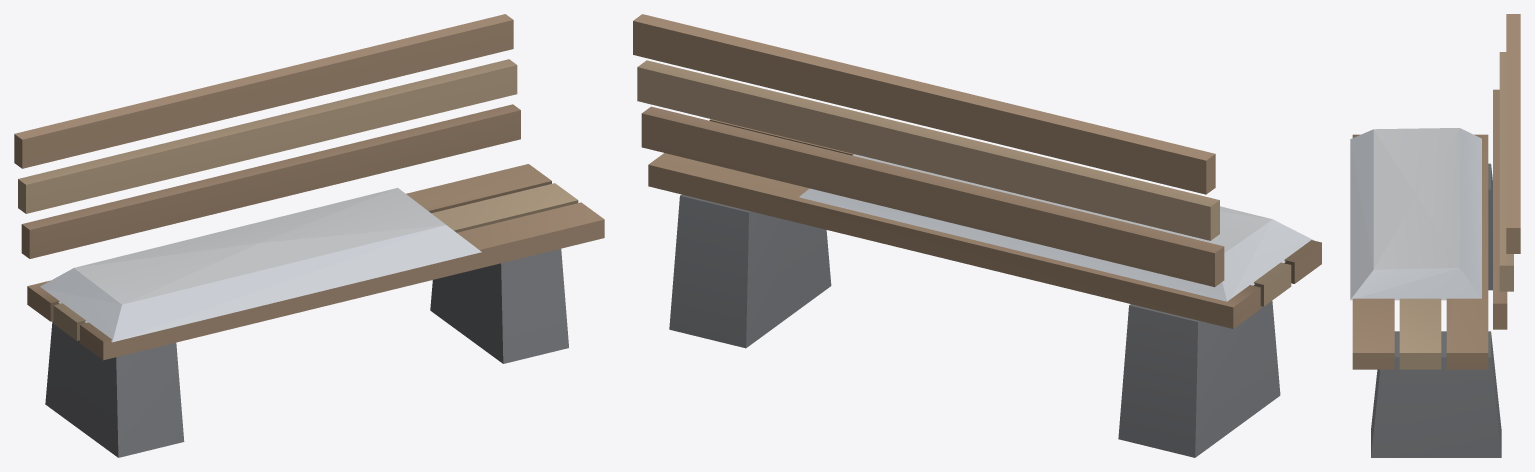
Rendered from bench.lod2.glb.
3 renders of one model, left to right at view 1: azimuth 30°, elevation 25°; view 2: azimuth 150°, elevation 25°; view 3: azimuth 270°, elevation 25°, orthographic. The views are drawn at different scales.
Bounding box in the file's own units: 1.98 × 1.01 × 0.654.
